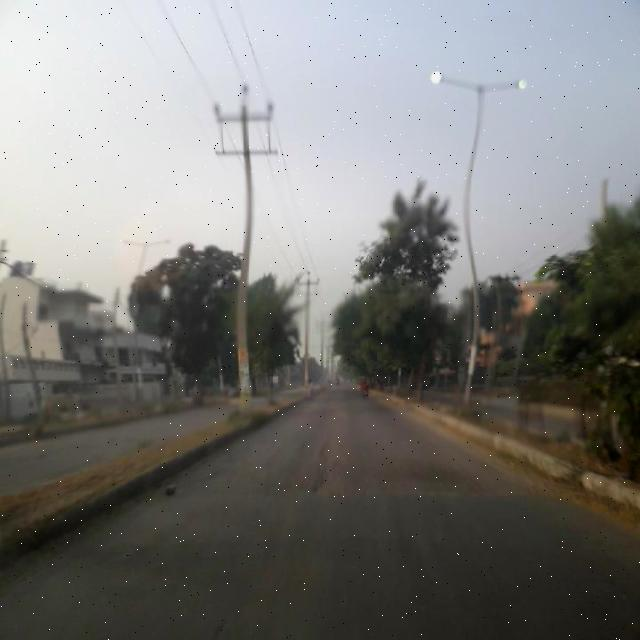D00: (190, 614, 237, 638)
